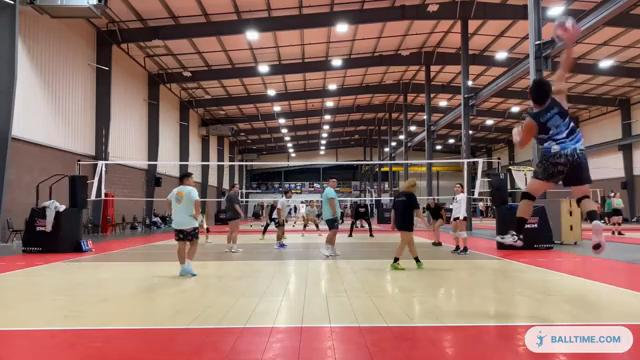Player: (167, 172, 200, 275), (390, 178, 427, 269), (321, 177, 340, 256), (225, 184, 243, 252), (451, 183, 468, 254), (273, 190, 291, 248), (348, 200, 373, 237), (426, 198, 445, 245), (301, 200, 321, 236), (260, 200, 277, 239), (198, 213, 211, 242)
Serve: (494, 12, 610, 254)
ball: (551, 16, 583, 44)
